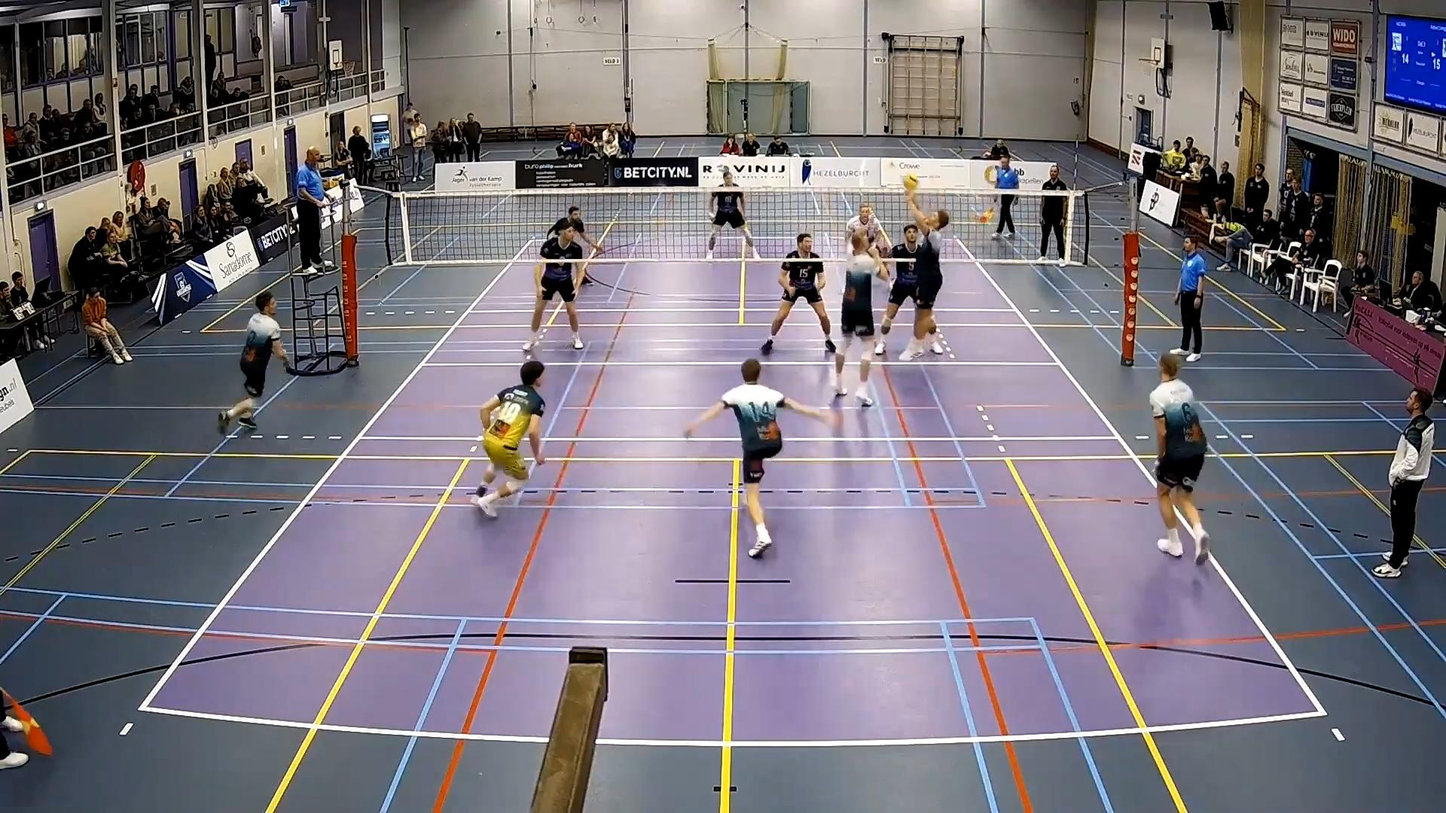alzata: (898, 190, 959, 357)
